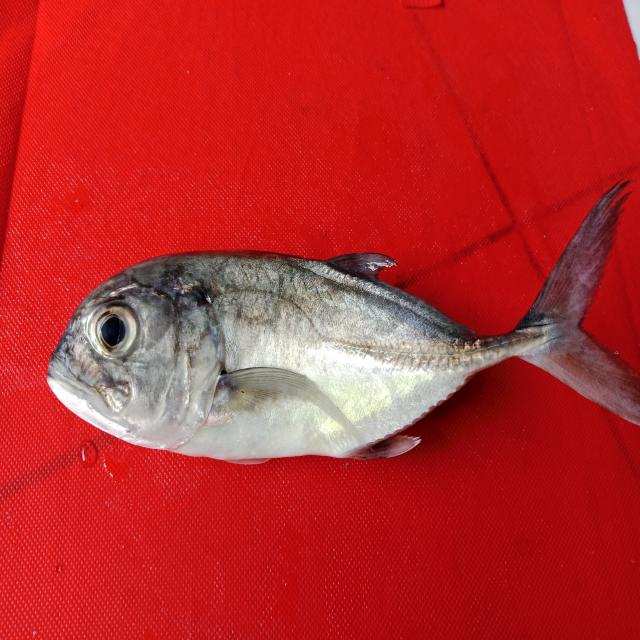ikan: (34, 171, 637, 482)
